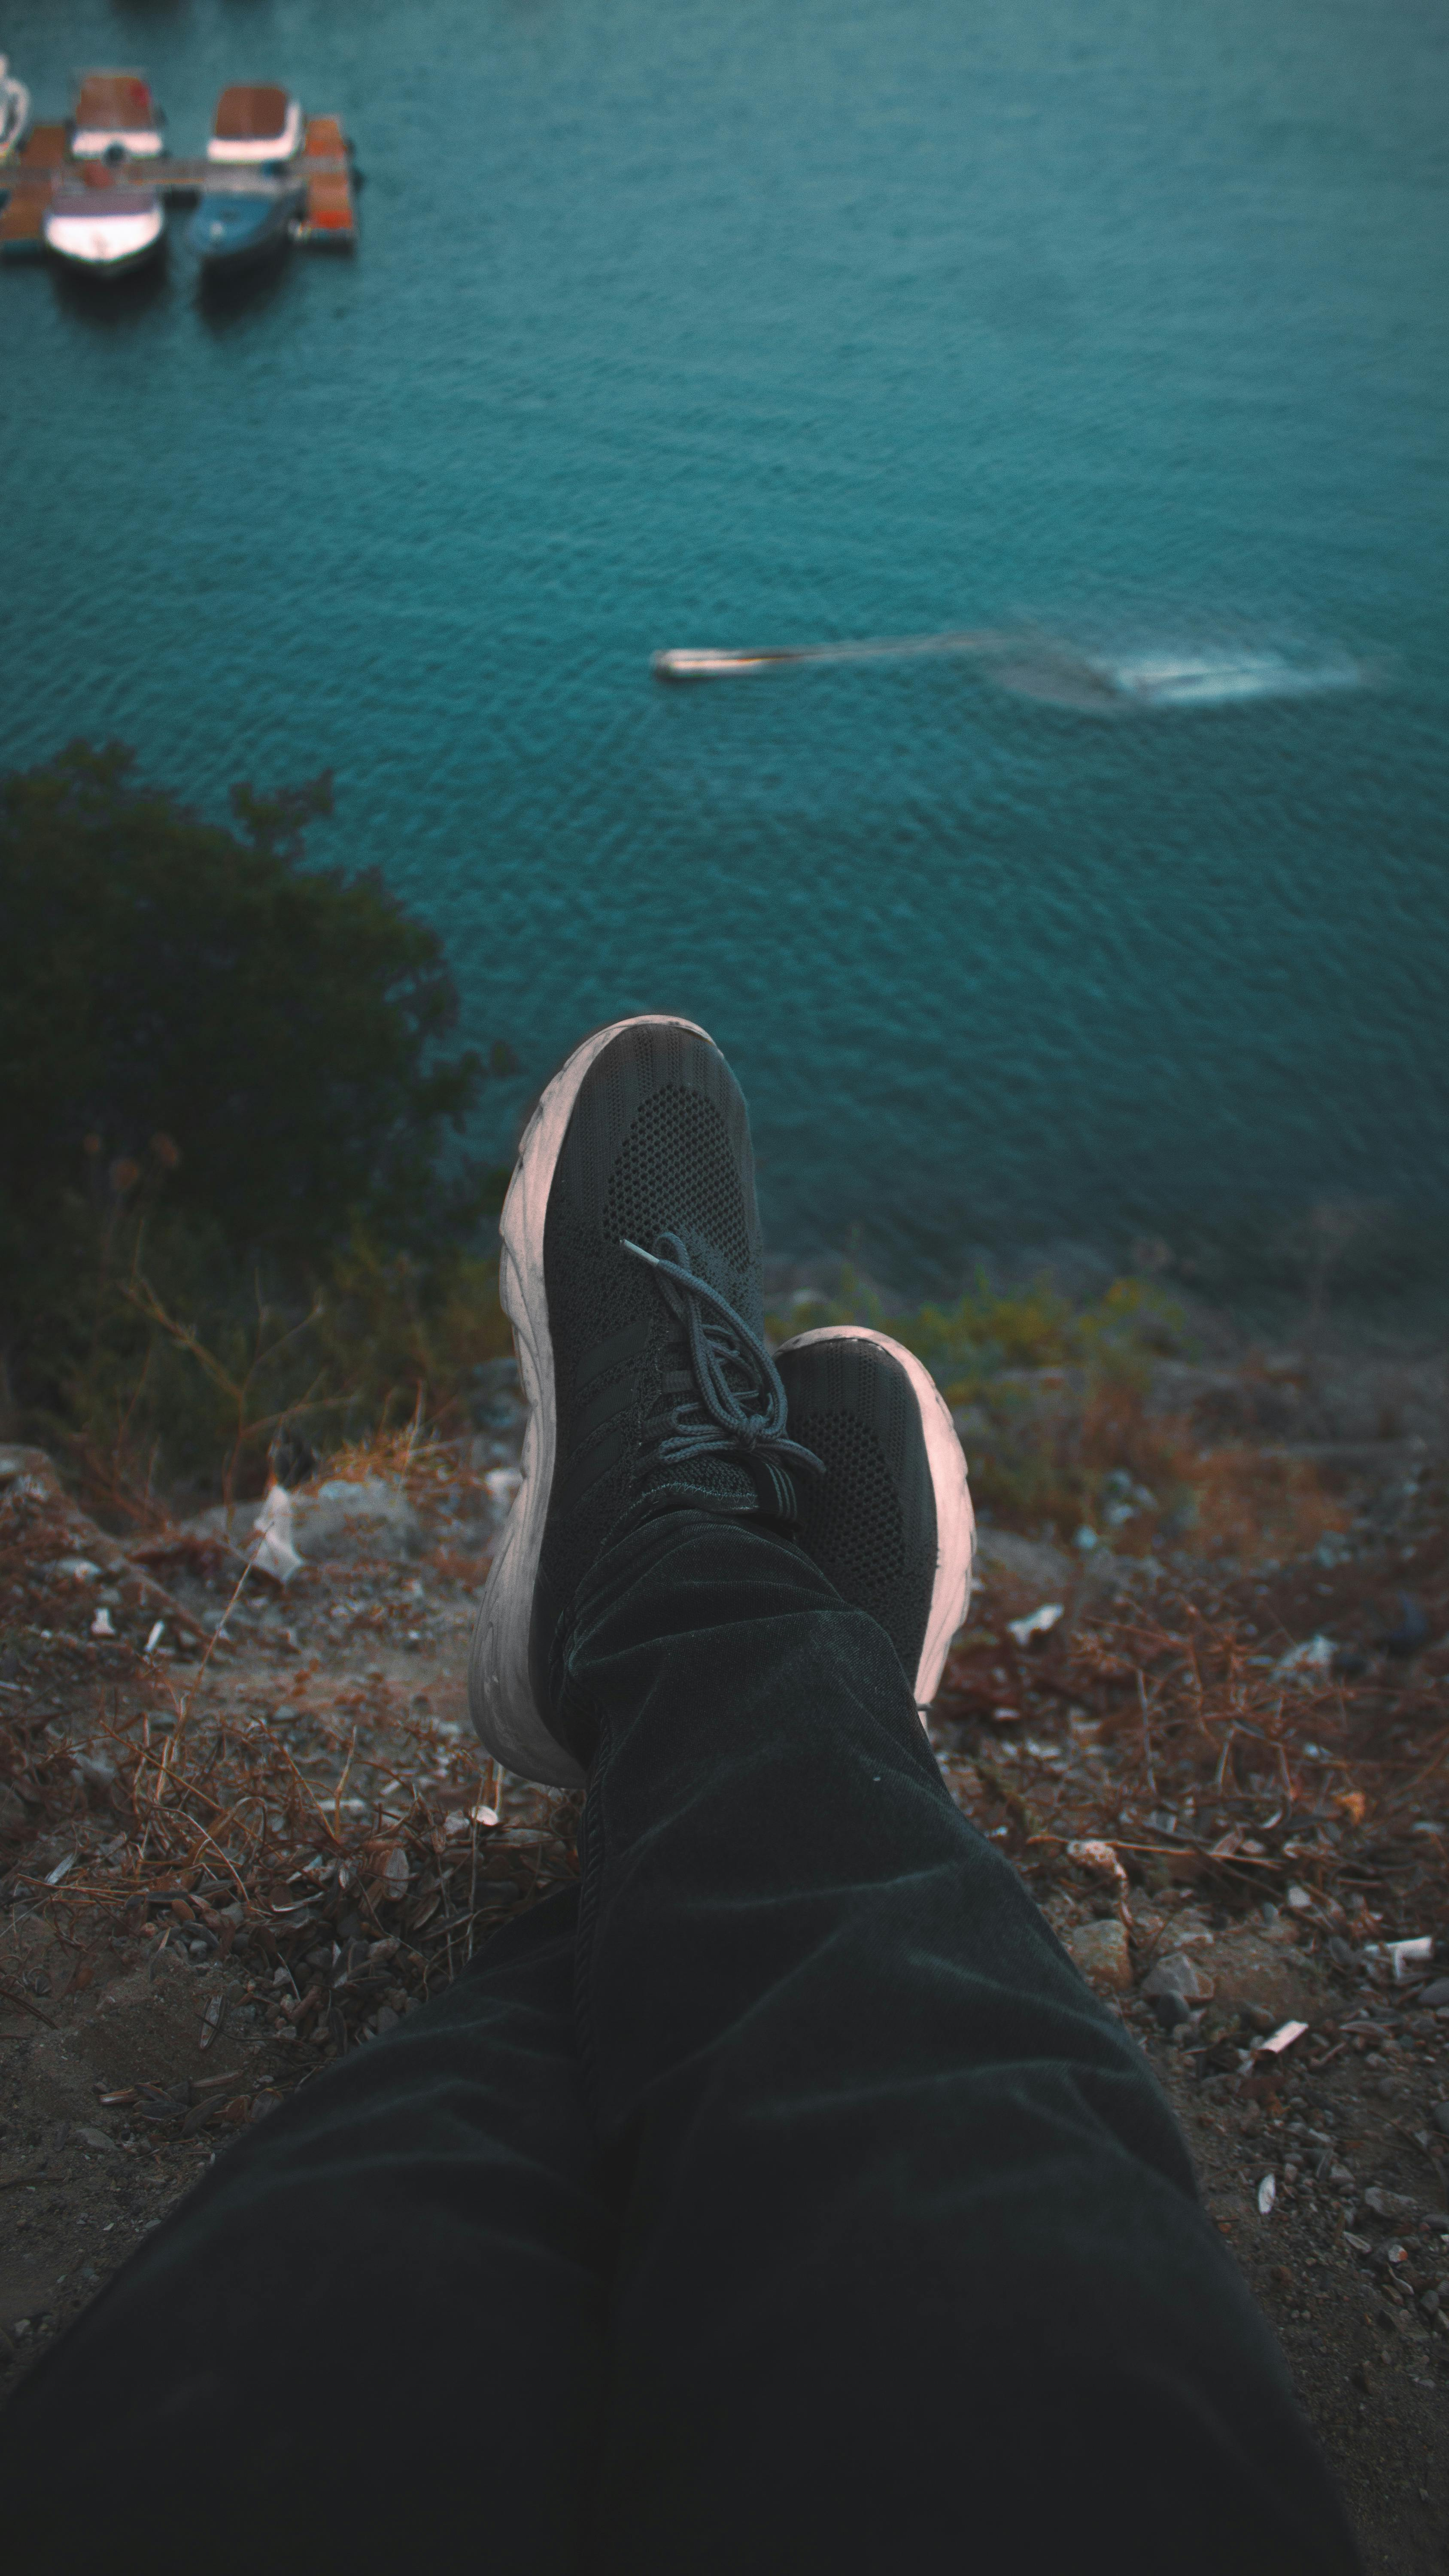Footwear: (410, 959, 1030, 1776)
